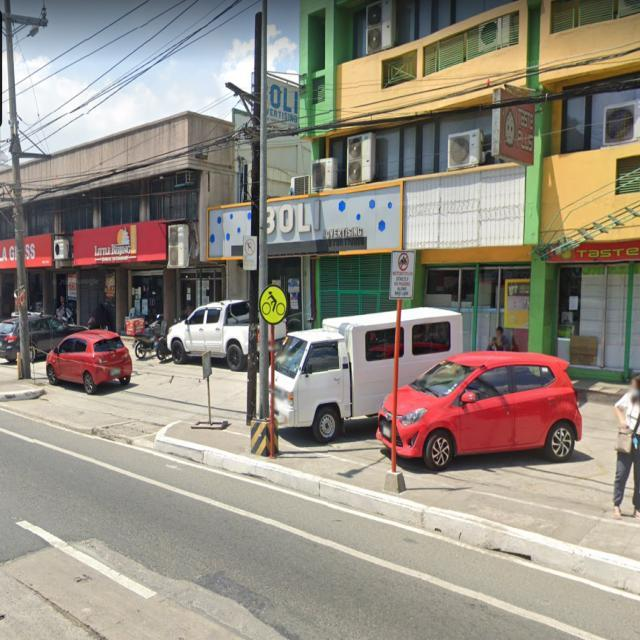bike lane: (257, 283, 292, 330)
